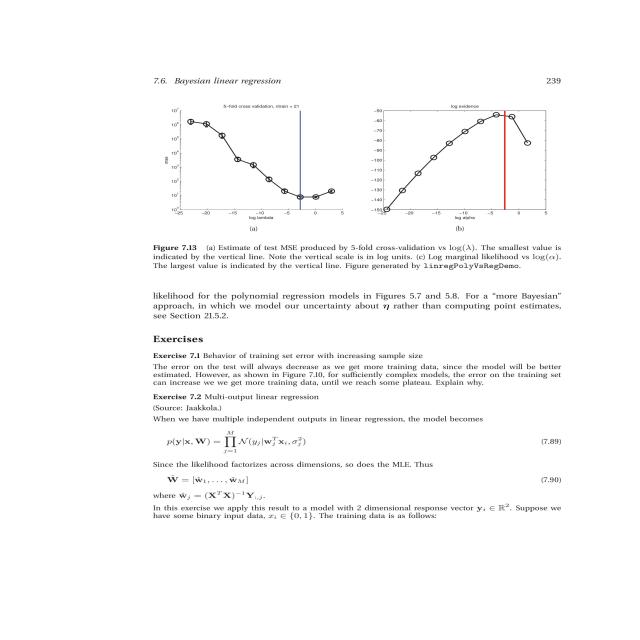diagram: (116, 91, 586, 283)
